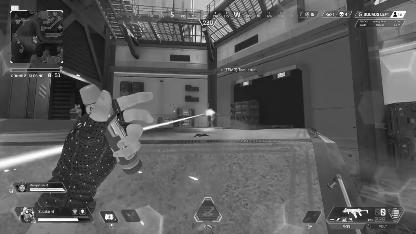Target: (207, 106, 216, 126)
